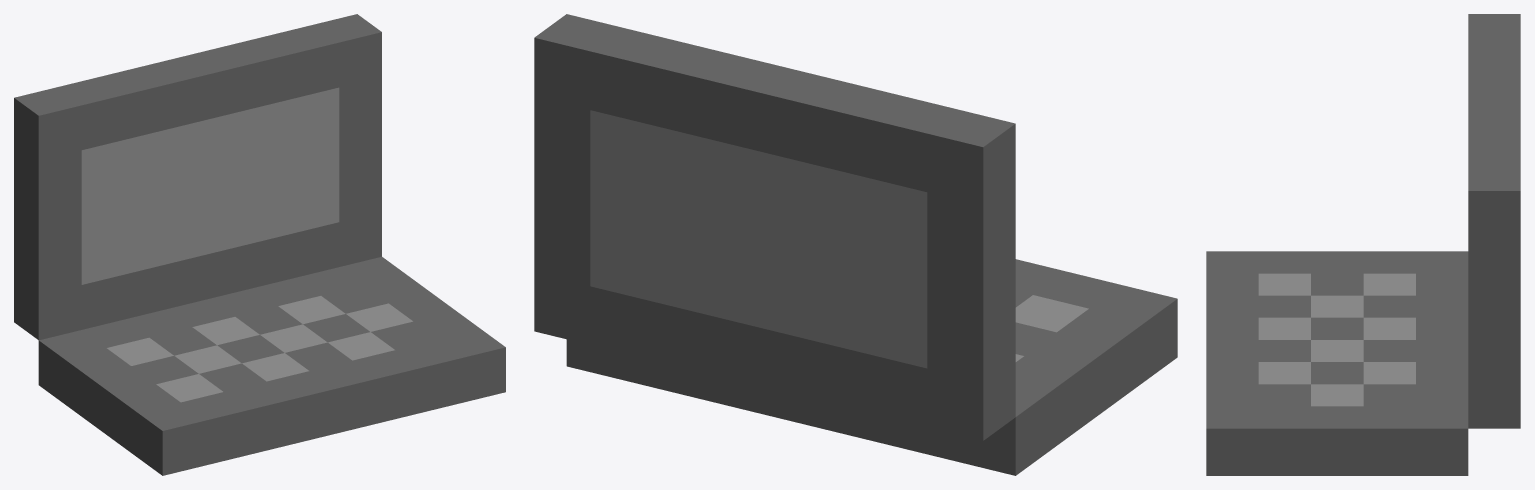
Rendered from Laptop.obj.
3 renders of one model, left to right at view 1: azimuth 30°, elevation 25°; view 2: azimuth 150°, elevation 25°; view 3: azimuth 270°, elevation 25°, orthographic. The views are drawn at different scales.
Visible parts, largest first — view 1: Laptop; view 2: Laptop; view 3: Laptop.
Boxes of the visible parts, x1,y1,x2,y2 form: Laptop: (14,14,505,475); Laptop: (534,14,1177,475); Laptop: (1206,14,1520,475).
Size of the model in its own units: 8 by 6 by 6.
Materials: 1 (1 with a texture image).
